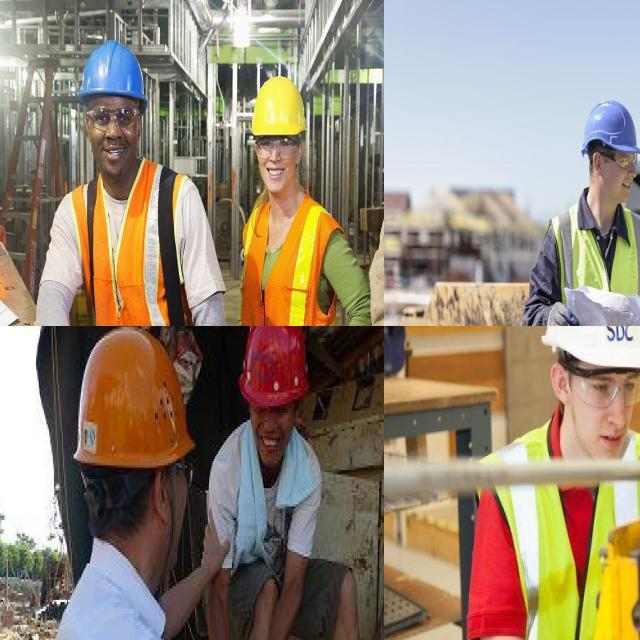No_Ear-Protection: (148, 469, 172, 531), (547, 357, 568, 408), (591, 147, 604, 180)
face_nomask: (564, 358, 640, 463), (84, 97, 143, 175), (254, 133, 298, 192), (596, 142, 640, 201), (252, 418, 294, 469)
glasses: (566, 359, 640, 414), (85, 102, 140, 132), (254, 135, 299, 162), (612, 148, 640, 171)
hand_glove: (539, 299, 584, 326)
hand_noglove: (200, 513, 230, 577)
head_helmet: (71, 326, 201, 476), (236, 326, 314, 411), (545, 326, 640, 369), (582, 101, 640, 156), (81, 46, 146, 90), (254, 78, 302, 135)
person: (472, 326, 640, 640), (64, 41, 219, 326), (234, 83, 340, 326), (552, 83, 640, 326)
vest: (496, 433, 640, 640), (69, 186, 178, 326), (542, 207, 640, 326), (246, 193, 323, 326)
